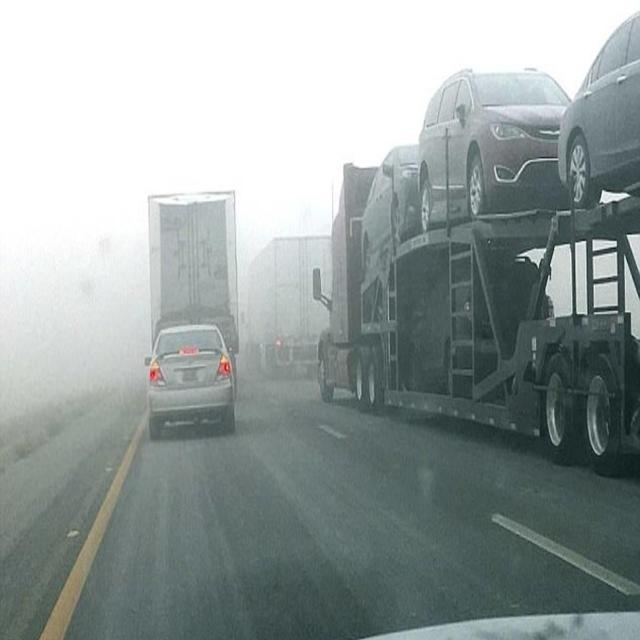Car: (145, 323, 236, 431)
Truck: (143, 178, 239, 364), (246, 233, 338, 387)
